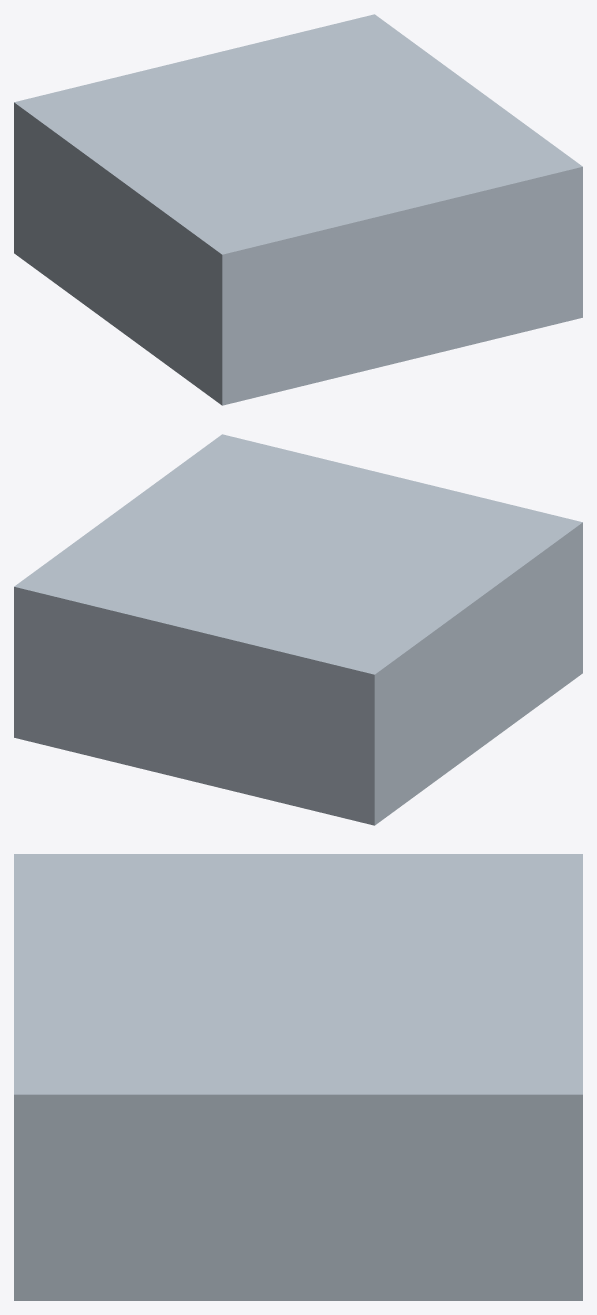
File: baile_azul_manga_sup.glb
3 renders of one model, top to bottom at view 1: azimuth 30°, elevation 25°; view 2: azimuth 150°, elevation 25°; view 3: azimuth 270°, elevation 25°, orthographic. The views are drawn at different scales.
Parts seen in each view (by area): view 1: baile_azul_manga_sup; view 2: baile_azul_manga_sup; view 3: baile_azul_manga_sup.
Boxes of the visible parts, left/top/right/bottom form: baile_azul_manga_sup: left=14, top=14, right=582, bottom=405; baile_azul_manga_sup: left=14, top=434, right=582, bottom=825; baile_azul_manga_sup: left=14, top=854, right=582, bottom=1300.
Size of the model in its own units: 0.3 by 0.12 by 0.3.
